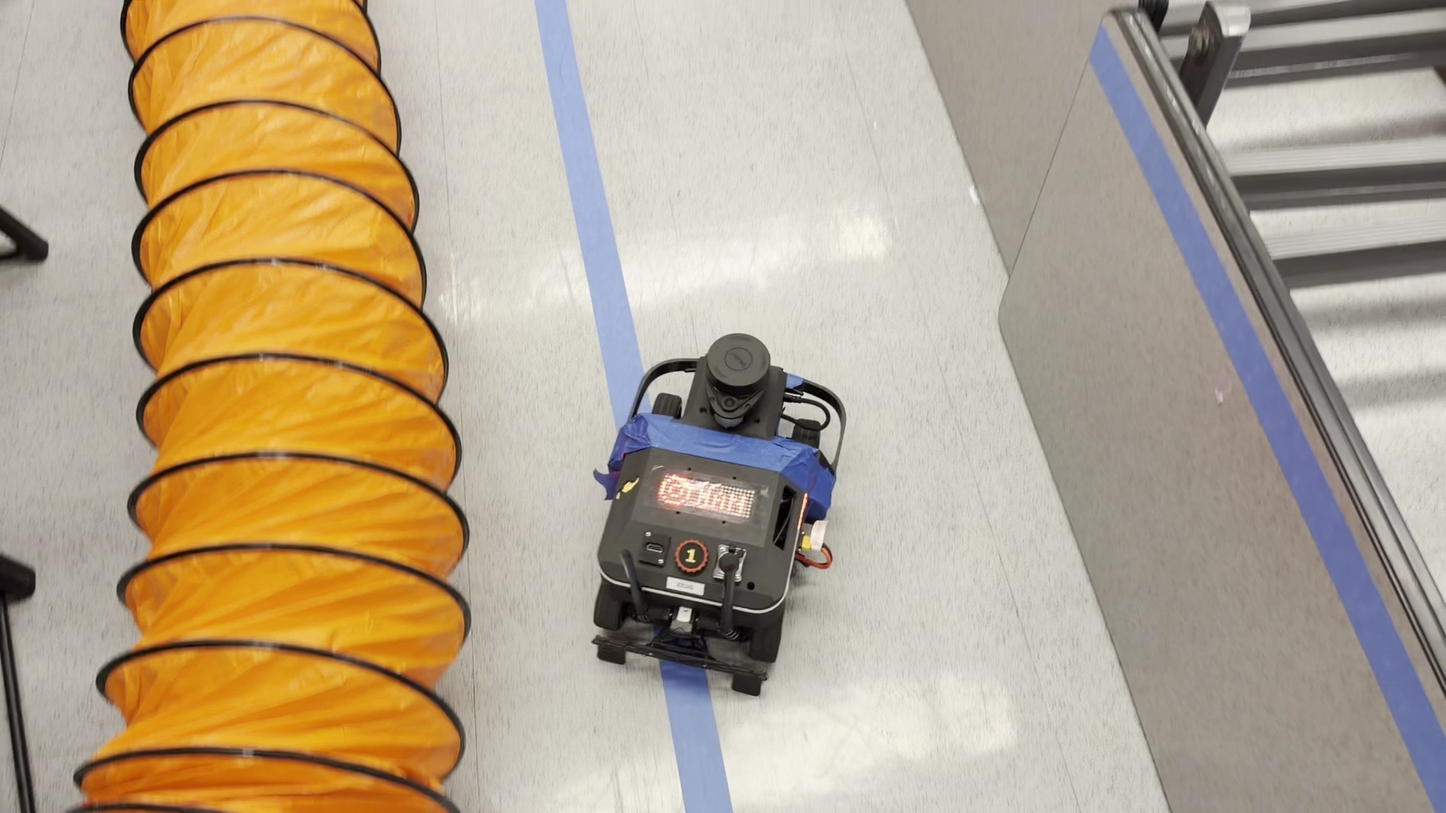racecar: (592, 330, 843, 694)
